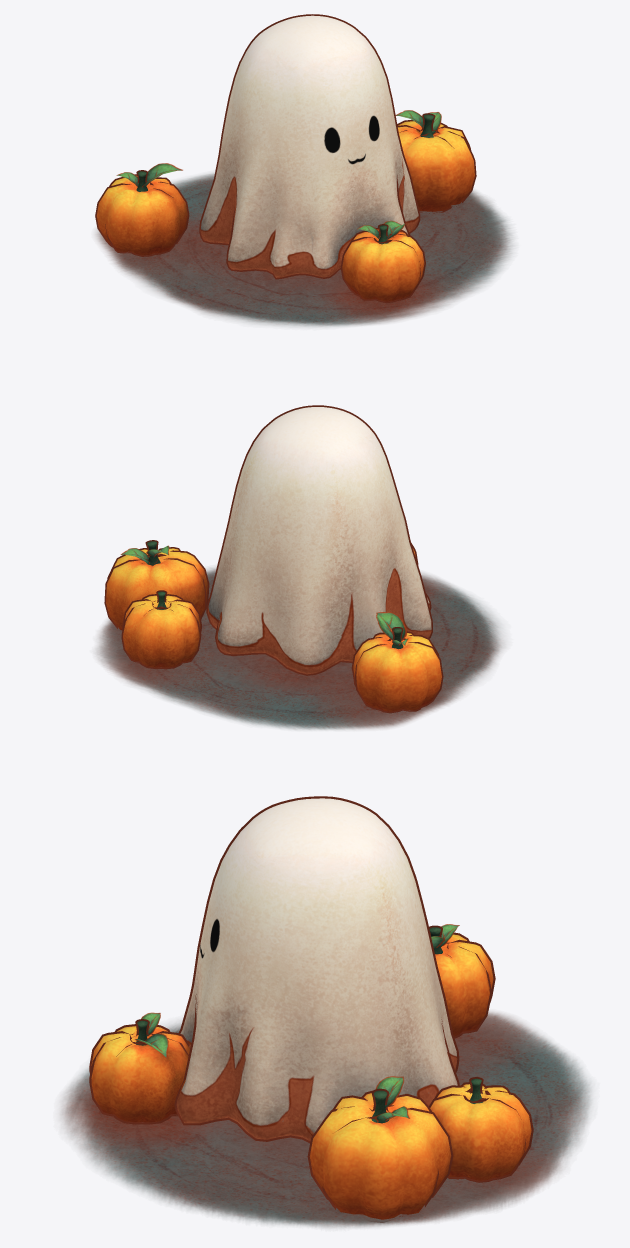
File: Ghost.glb
3 views of the same model, one above another, from view 1: azimuth 30°, elevation 25°; view 2: azimuth 150°, elevation 25°; view 3: azimuth 270°, elevation 25° (orthographic). The views are drawn at different scales.
Parts seen in each view (by area): view 1: Ghost, Ground, Ghost.002, Ghost.001; view 2: Ghost, Ground, Ghost.002, Ghost.001; view 3: Ghost, Ground, Ghost.002, Ghost.001.
Boxes of the visible parts, box(x1,y1,x2,y2) form: Ghost: box(96, 15, 474, 301); Ground: box(95, 173, 513, 326); Ghost.002: box(95, 14, 476, 303); Ghost.001: box(116, 110, 441, 239); Ghost: box(106, 407, 441, 711); Ground: box(95, 567, 504, 729); Ghost.002: box(104, 405, 443, 713); Ghost.001: box(120, 545, 408, 645); Ghost: box(91, 798, 531, 1219); Ground: box(60, 1011, 591, 1228); Ghost.002: box(89, 796, 533, 1222); Ghost.001: box(134, 924, 459, 1121).
Size of the model in its own units: 5.28 by 3.13 by 5.47.
Materials: 3 (2 with a texture image).
